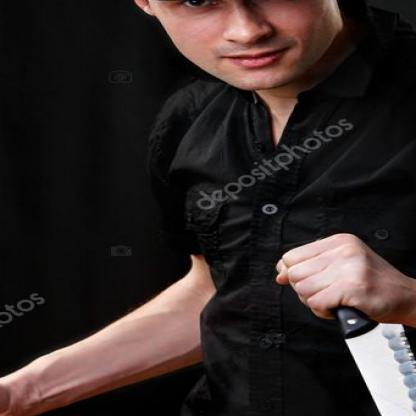knife: (270, 225, 414, 415)
